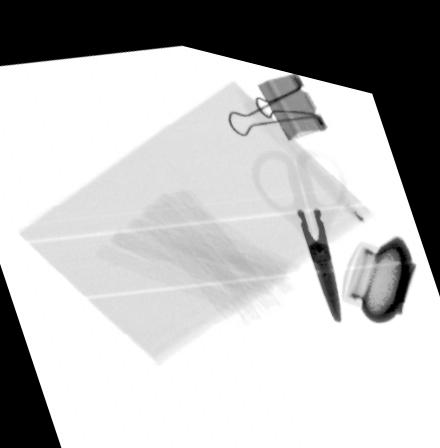Scissors: (251, 127, 348, 306)
